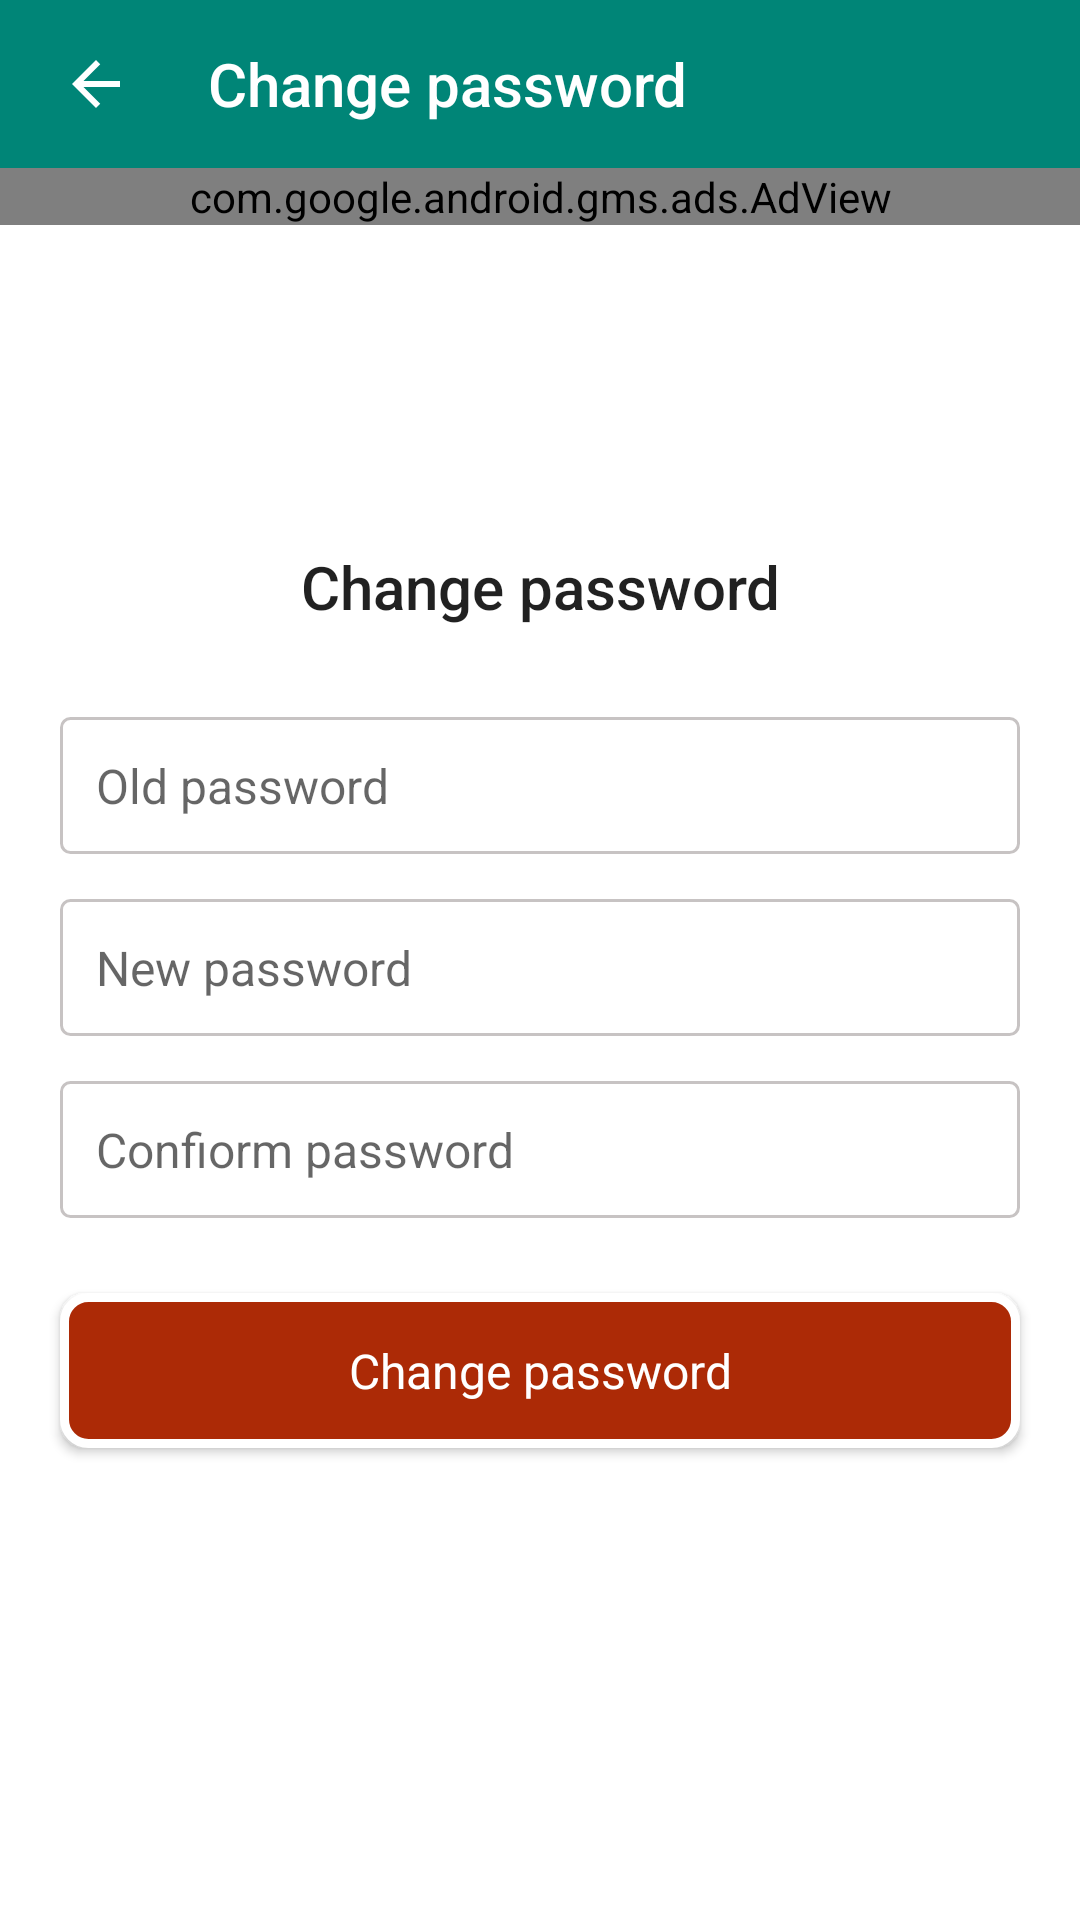

Icons on this 1080 × 1920 Android screen, each with its box as box(x1, y1, x2, y2):
arrow back: box(72, 60, 120, 108)
